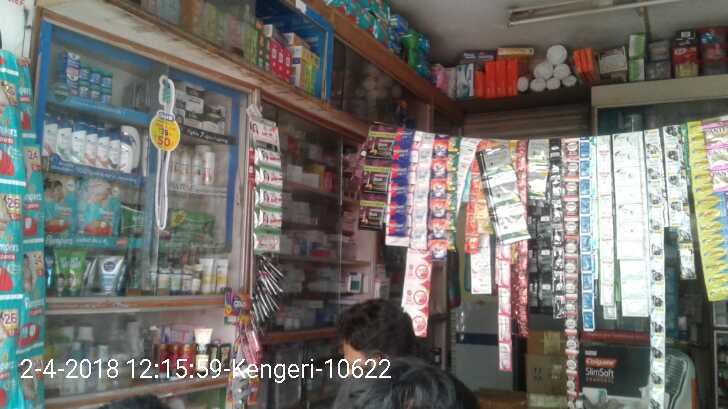vicks: (59, 51, 112, 100)
